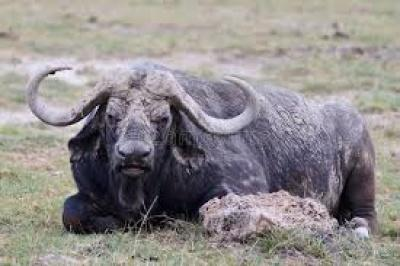buffalo: (25, 61, 379, 246)
